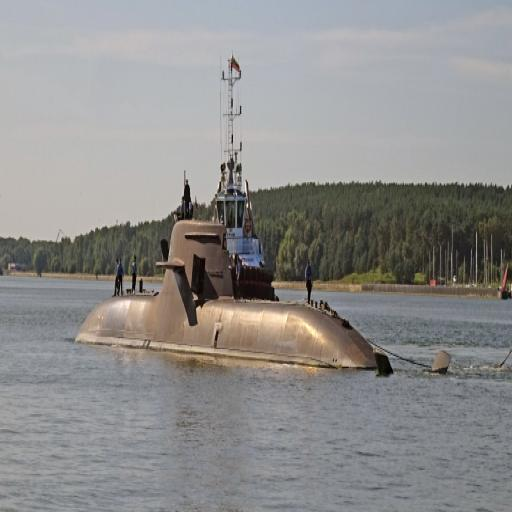submarine: (77, 220, 450, 379)
